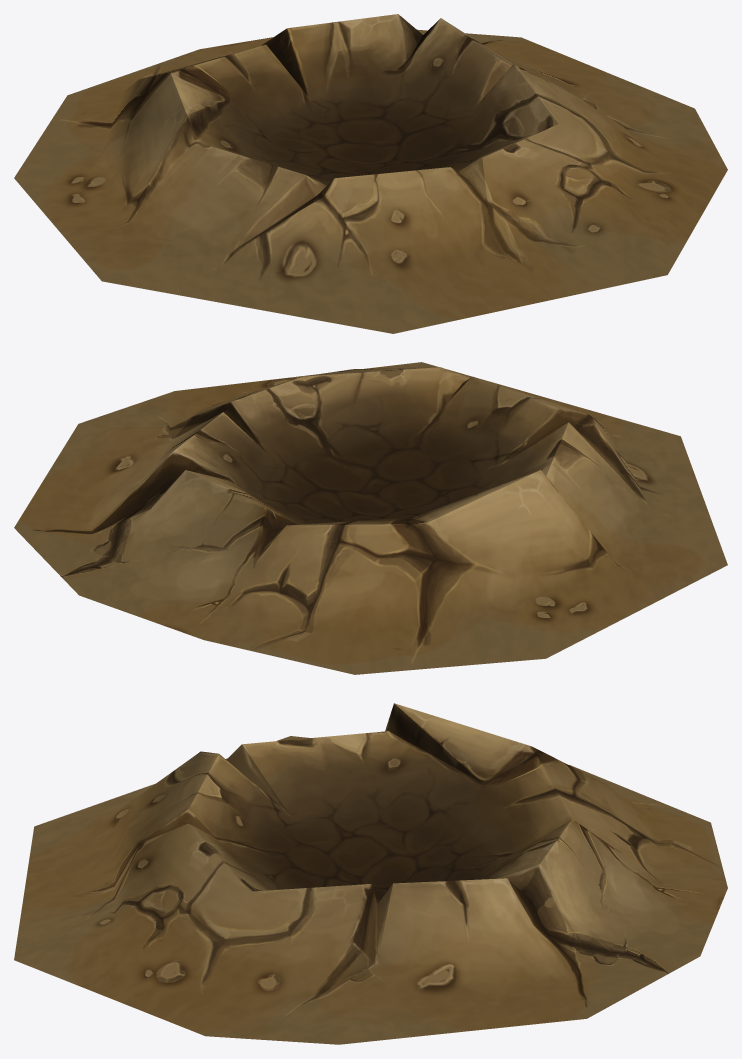
File: Crater_02.fbx
3 renders of one model, top to bottom at view 1: azimuth 30°, elevation 25°; view 2: azimuth 150°, elevation 25°; view 3: azimuth 270°, elevation 25°, orthographic. The views are drawn at different scales.
Visible parts, largest first — view 1: Crater_02; view 2: Crater_02; view 3: Crater_02.
Boxes of the visible parts, x1,y1,x2,y2 form: Crater_02: (14,14,727,333); Crater_02: (14,362,727,674); Crater_02: (14,703,727,1044).
Size of the model in its own units: 9.66 by 1.54 by 9.26.
